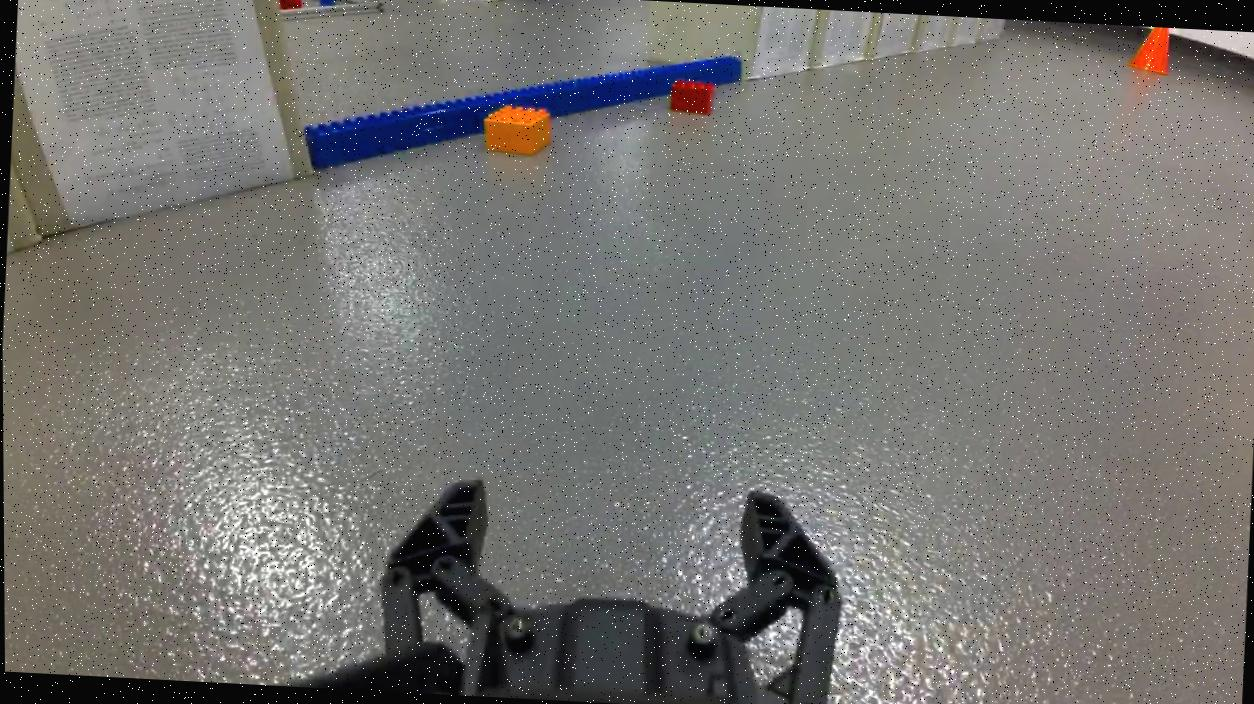2x4lego: (665, 80, 717, 116)
4x4lego: (481, 104, 552, 156)
